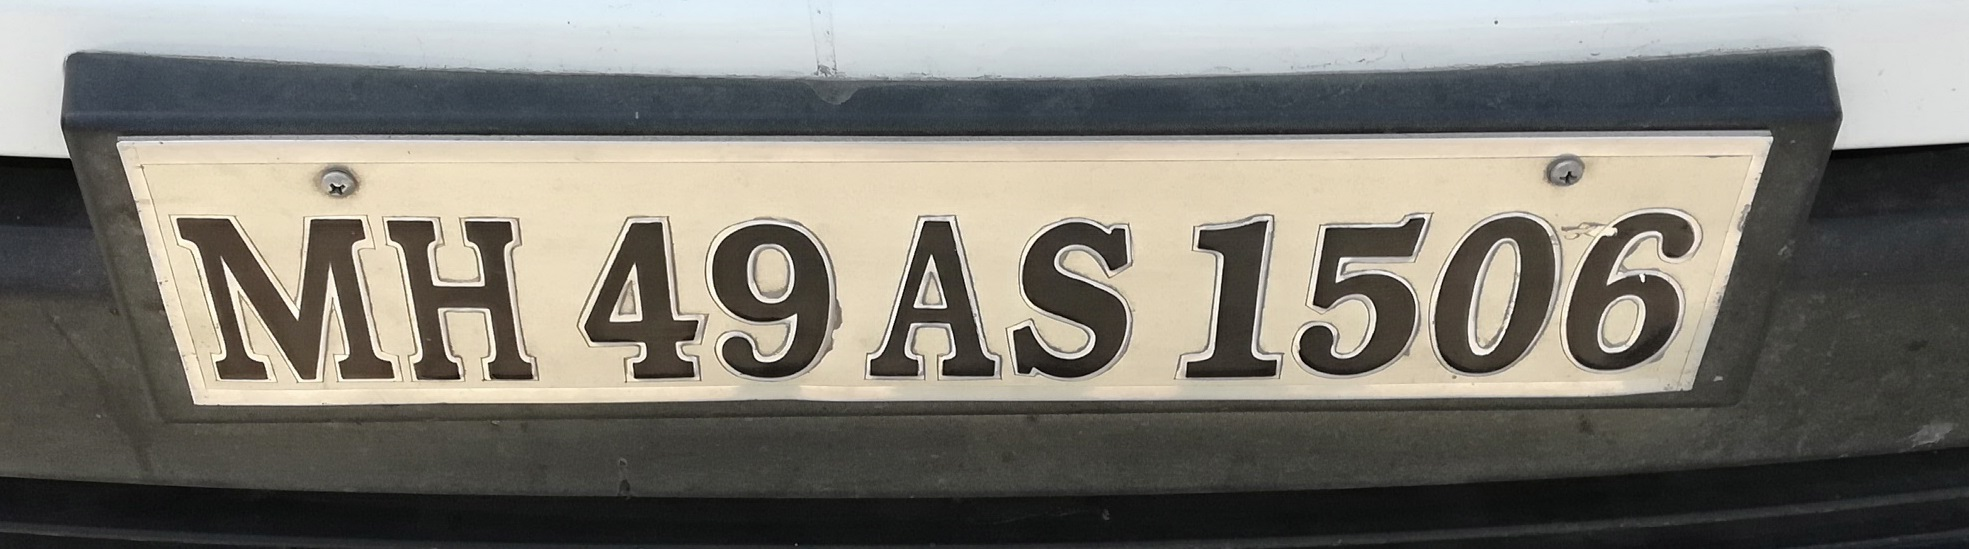numberplate: (115, 127, 1776, 419)
